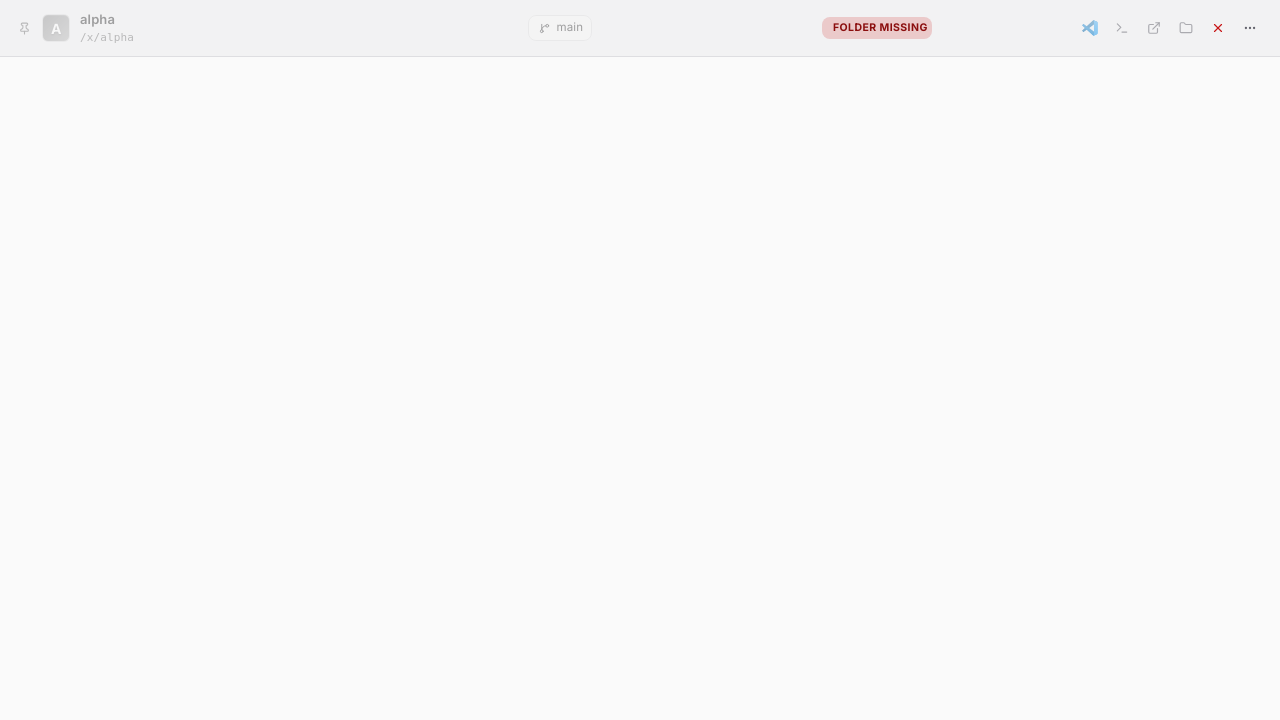
it: RepoRow › opens the forget confirmation straight from the removal shortcut
Click the button with test id "repo-row-forget": (1218, 28) [1204,14,1232,42]
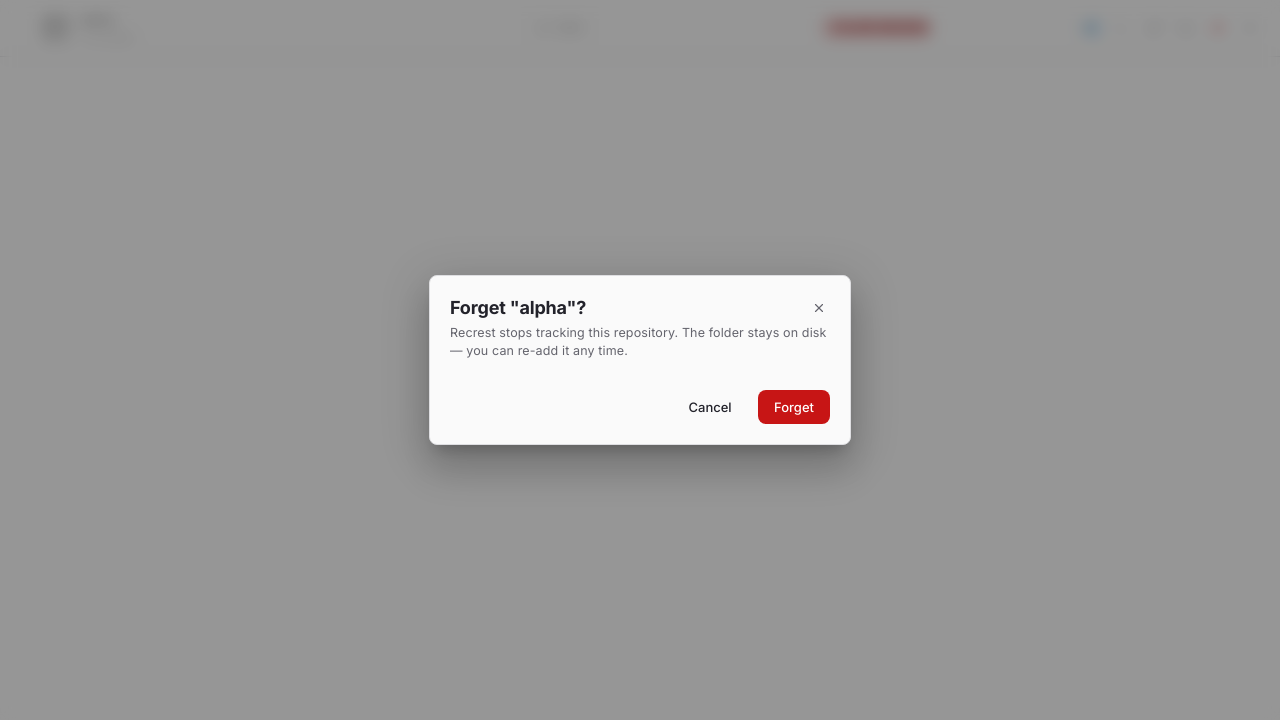
Now the element with test id "confirm-dialog" is shown
